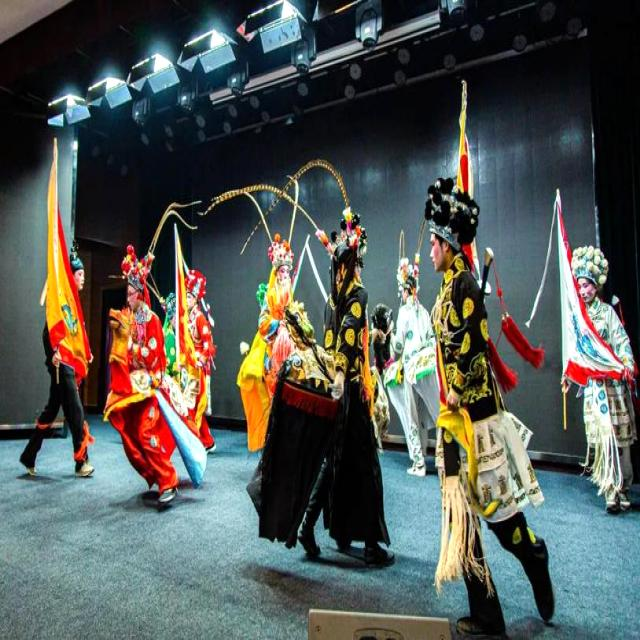Reeves-s Pheasant: (199, 159, 349, 237), (150, 204, 193, 248)
